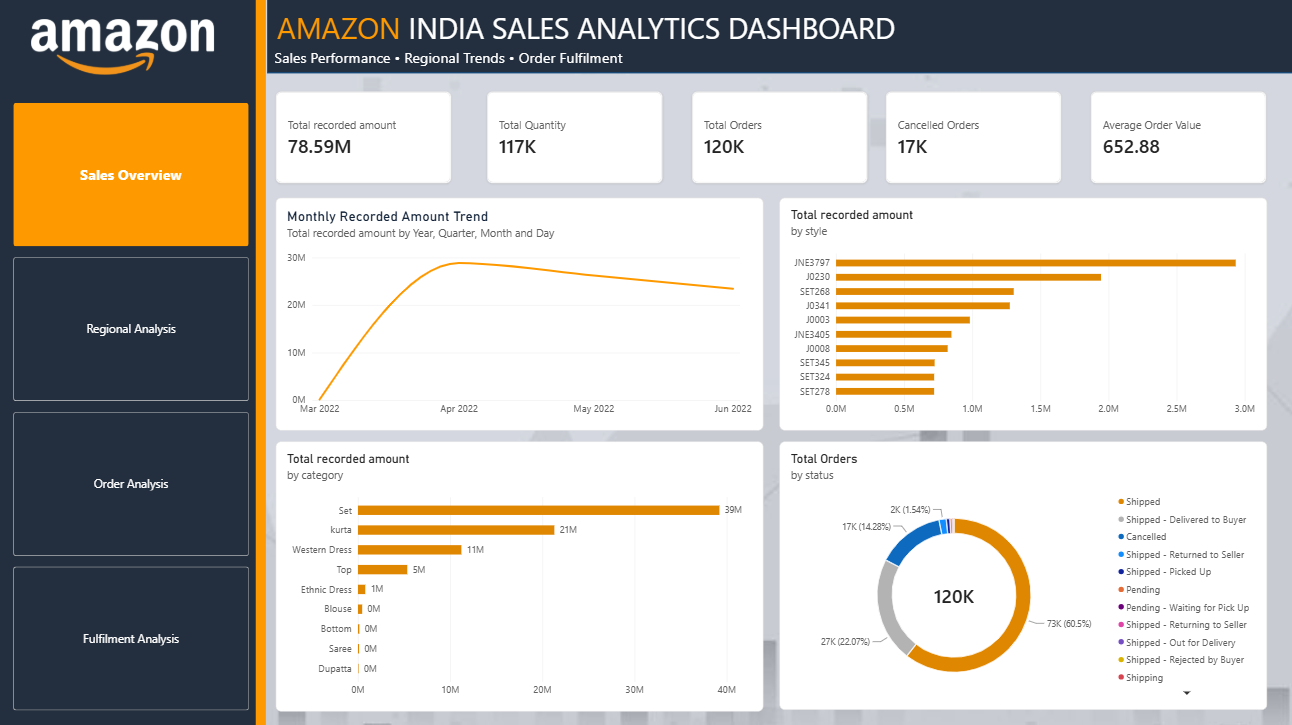

The page's visual inventory and layout, read from the dashboard file:
{"tool":"powerbi","page":{"name":"Sales Overview","canvas":[1920,1080],"ordinal":0},"visuals":[{"type":"shape","box":[0,0,396.7,1080],"z":0},{"type":"shape","box":[382.5,0,15,1080],"z":1000},{"type":"image","box":[0,30,372,82],"z":2000},{"type":"shape","box":[400,0,1520,110],"z":3000},{"type":"textbox","box":[411.8,13.7,923.5,78.4],"z":4000},{"type":"textbox","box":[412,72,1144,40],"z":5000},{"type":"pageNavigator","box":[23.5,152.9,349,902],"z":6000},{"type":"cardVisual","title":"Total recorded amount","fields":{"Data":["amazon_sales_mysql_ready_v3.Total Recorded Amount"]},"box":[412.9,137.1,260,136],"z":7000},{"type":"cardVisual","fields":{"Data":["amazon_sales_mysql_ready_v3.Total Orders"]},"box":[1030,137.5,260,136],"z":8000},{"type":"cardVisual","fields":{"Data":["amazon_sales_mysql_ready_v3.Total Quantity"]},"box":[725,137.5,260,136],"z":9000},{"type":"cardVisual","fields":{"Data":["amazon_sales_mysql_ready_v3.Cancelled Orders"]},"box":[1317.5,137.5,260,136],"z":10000},{"type":"lineChart","title":"Monthly Recorded Amount Trend","fields":{"Category":["amazon_sales_mysql_ready_v3.order_month.Variation.Date Hierarchy.Year","amazon_sales_mysql_ready_v3.order_month.Variation.Date Hierarchy.Quarter","amazon_sales_mysql_ready_v3.order_month.Variation.Date Hierarchy.Month","amazon_sales_mysql_ready_v3.order_month.Variation.Date Hierarchy.Day"],"Y":["amazon_sales_mysql_ready_v3.Total recorded amount"]},"box":[412.5,295,722.5,345],"z":11000},{"type":"clusteredBarChart","fields":{"Category":["amazon_sales_mysql_ready_v3.category"],"Y":["amazon_sales_mysql_ready_v3.Total recorded amount"]},"box":[412.5,655,722.5,400],"z":12000},{"type":"clusteredBarChart","fields":{"Category":["amazon_sales_mysql_ready_v3.style"],"Y":["amazon_sales_mysql_ready_v3.Total recorded amount"]},"box":[1160,295,722.5,345],"z":13000},{"type":"donutChart","fields":{"Category":["amazon_sales_mysql_ready_v3.status"],"Y":["amazon_sales_mysql_ready_v3.Total Orders"]},"box":[1160,655,722.5,397.5],"z":14000},{"type":"cardVisual","fields":{"Data":["amazon_sales_mysql_ready_v3.Average Order Value"]},"box":[1620,137.5,260,136],"z":15000}]}

Visuals, with their boxes in screenshot pixels (x1, y1, x2, y2), scaled from the page's 1920x1080 canvas onto the 1292x725 screenshot:
shape: detection(0, 0, 267, 724)
shape: detection(257, 0, 267, 724)
image: detection(0, 20, 250, 75)
shape: detection(269, 0, 1291, 74)
textbox: detection(277, 9, 899, 62)
textbox: detection(277, 48, 1047, 75)
pageNavigator: detection(16, 103, 251, 708)
"Total recorded amount" cardVisual: detection(278, 92, 453, 183)
cardVisual - amazon_sales_mysql_ready_v3.Total Orders: detection(693, 92, 868, 184)
cardVisual - amazon_sales_mysql_ready_v3.Total Quantity: detection(488, 92, 663, 184)
cardVisual - amazon_sales_mysql_ready_v3.Cancelled Orders: detection(887, 92, 1062, 184)
"Monthly Recorded Amount Trend" lineChart: detection(278, 198, 764, 430)
clusteredBarChart - amazon_sales_mysql_ready_v3.category x amazon_sales_mysql_ready_v3.Total recorded amount: detection(278, 440, 764, 708)
clusteredBarChart - amazon_sales_mysql_ready_v3.style x amazon_sales_mysql_ready_v3.Total recorded amount: detection(781, 198, 1267, 430)
donutChart - amazon_sales_mysql_ready_v3.status x amazon_sales_mysql_ready_v3.Total Orders: detection(781, 440, 1267, 707)
cardVisual - amazon_sales_mysql_ready_v3.Average Order Value: detection(1090, 92, 1265, 184)
